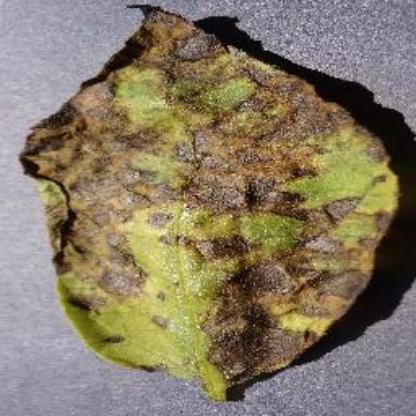Early-Blight: (21, 5, 416, 401)
